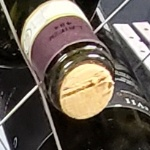bottle: (39, 32, 129, 134)
